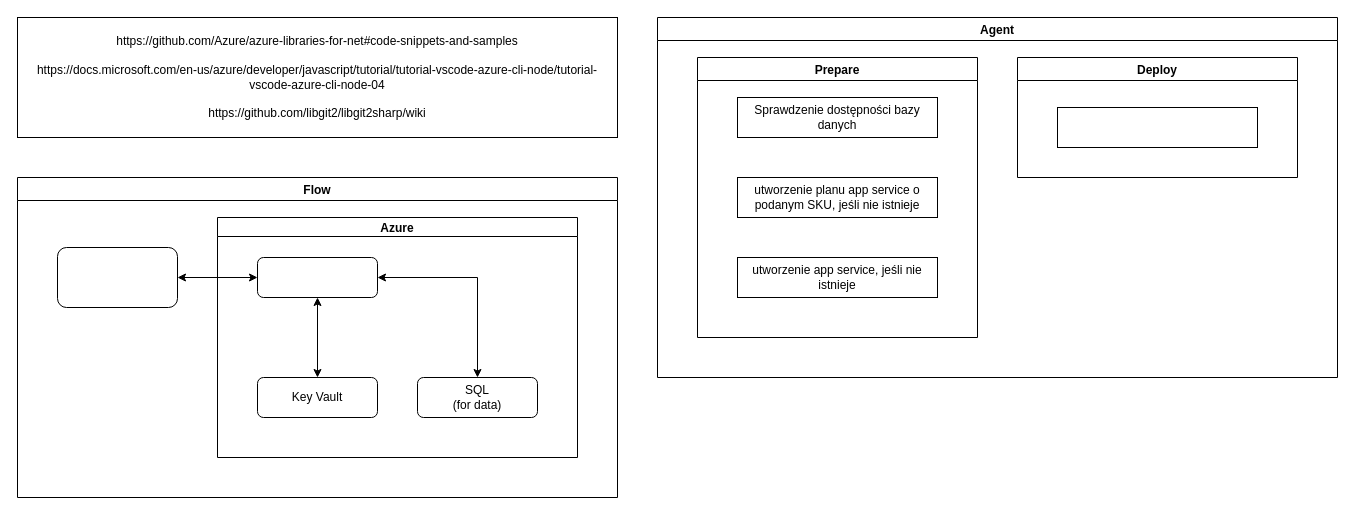
This 1355x515 diagram has some shape labels left out. Each missing label, with the centre of its shape:
"App Service" goes at point (317, 277).
"Internet" goes at point (117, 277).
"wdrożenie aplikacji" goes at point (1157, 127).
